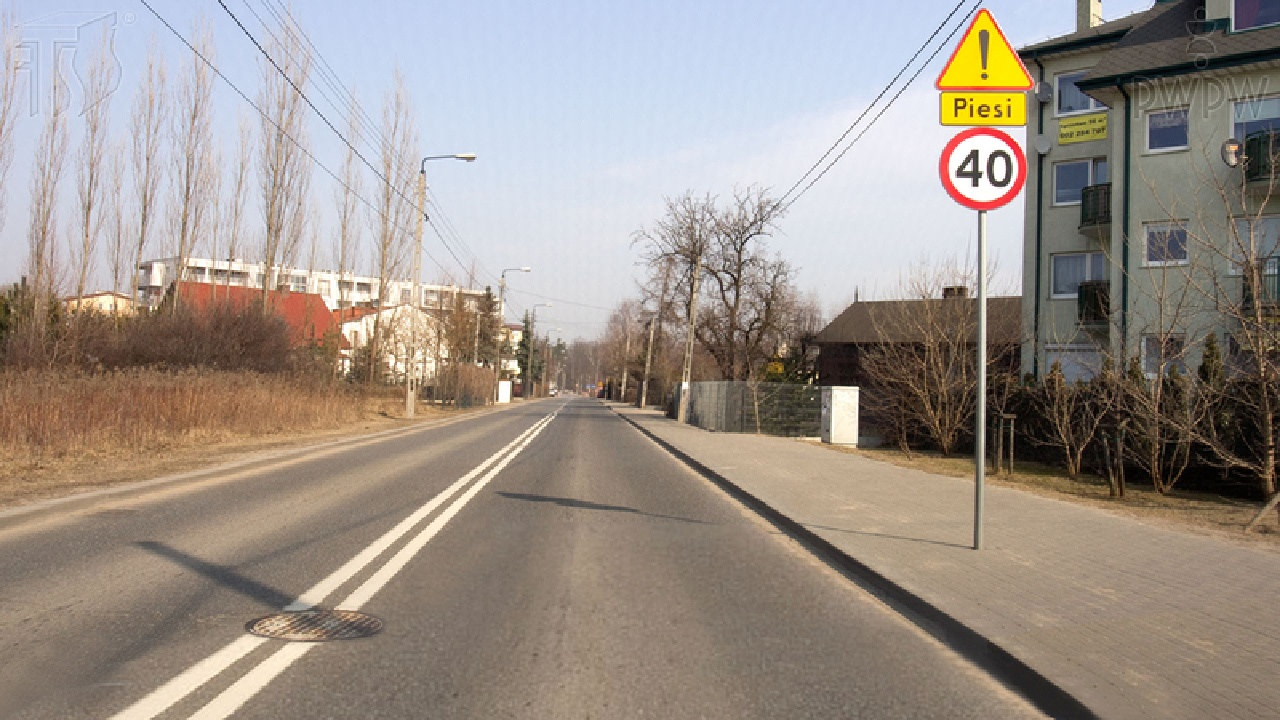A30: (935, 7, 1035, 91)
B33_40: (940, 128, 1027, 211)
